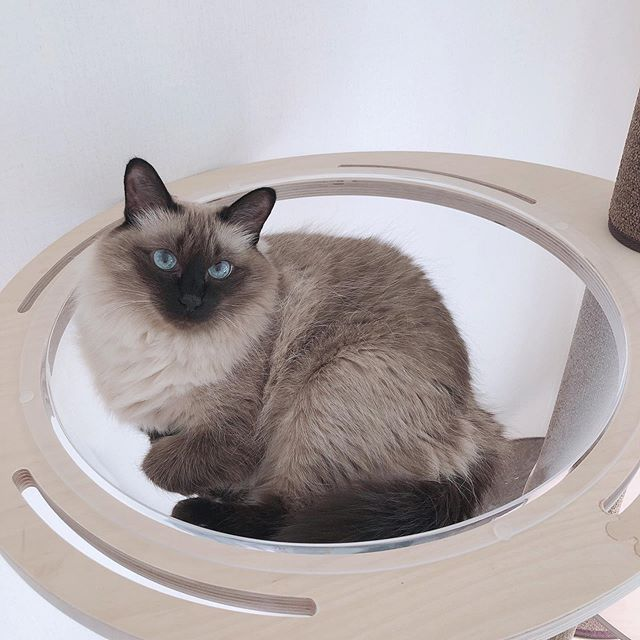cat: (109, 156, 280, 353)
